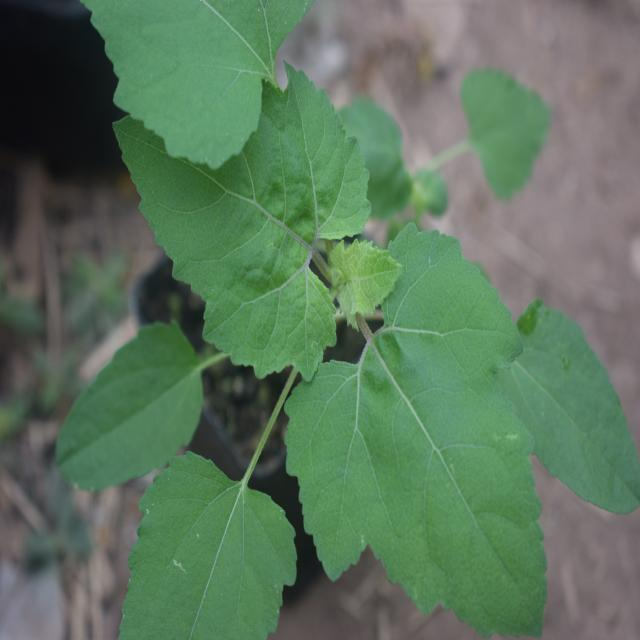cocklebur: (97, 0, 585, 635)
